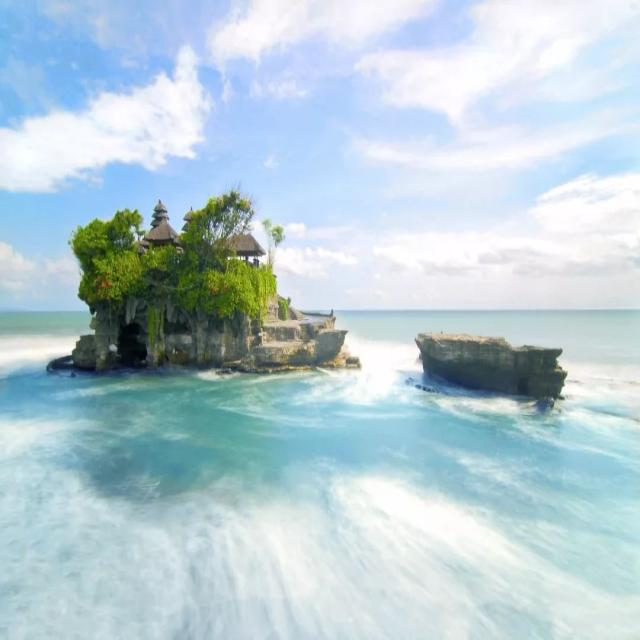reef: (386, 304, 578, 422)
